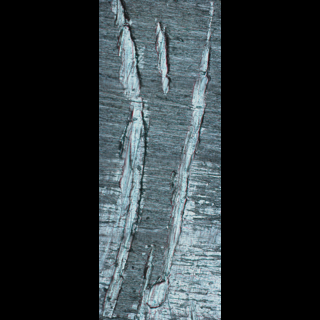d: (128, 1, 219, 319), (99, 0, 149, 319), (151, 19, 174, 98)
